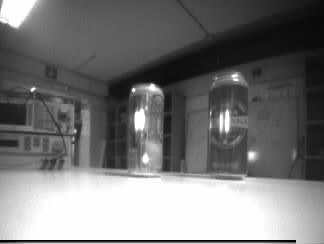Tin can: (207, 71, 249, 178), (128, 82, 163, 174)
